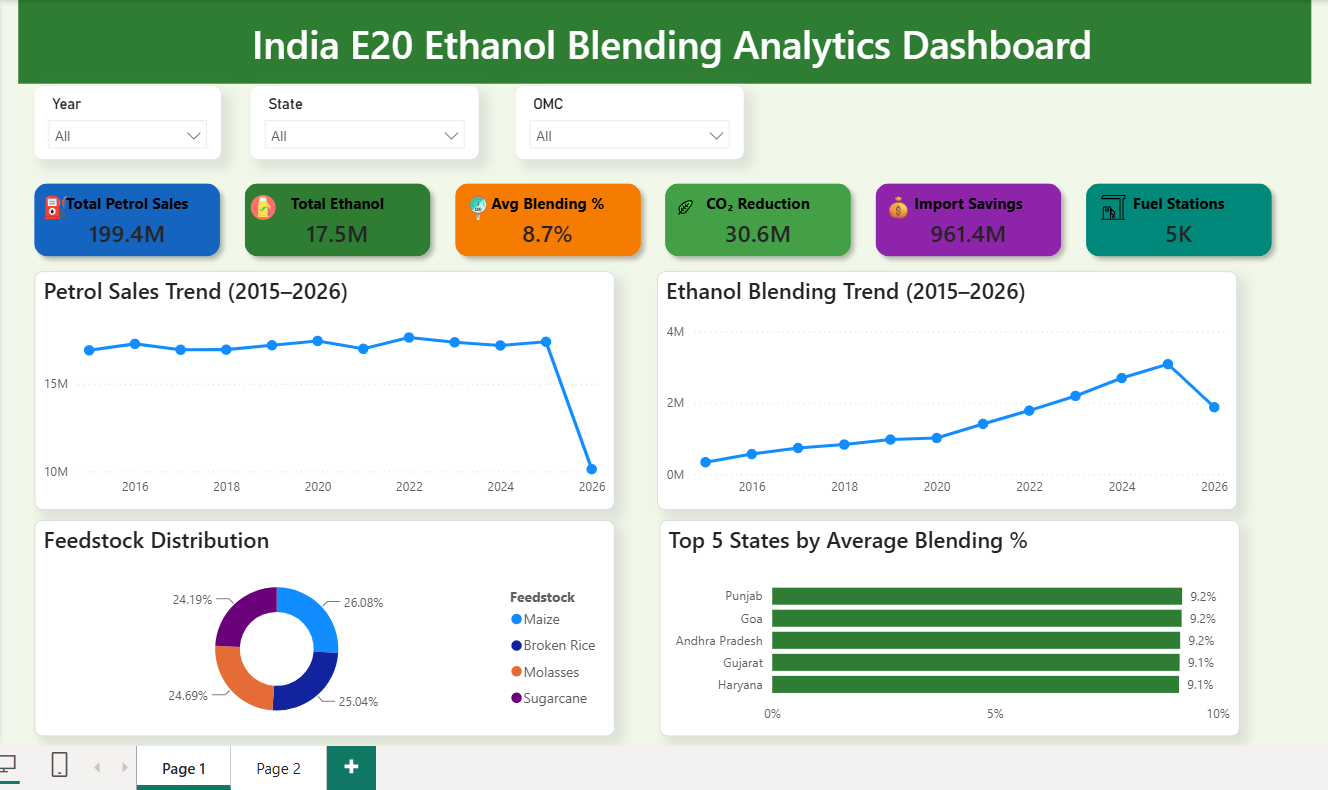

Layout of this report page (visuals, bound fields, positions):
{"tool":"powerbi","page":{"name":"Page 1","canvas":[1280,720],"ordinal":0},"visuals":[{"type":"textbox","box":[15.3,0,1248,80.7],"z":0},{"type":"cardVisual","fields":{"Data":["E20_Synthetic_Dashboard_Dataset_2015_2026.Total Petrol Sales","E20_Synthetic_Dashboard_Dataset_2015_2026.Total Ethanol","E20_Synthetic_Dashboard_Dataset_2015_2026.Avg Blending %","E20_Synthetic_Dashboard_Dataset_2015_2026.CO₂ Reduction","E20_Synthetic_Dashboard_Dataset_2015_2026.Import Savings","E20_Synthetic_Dashboard_Dataset_2015_2026.Fuel Stations"]},"box":[7.3,152.9,1247.3,118.6],"z":1000},{"type":"image","box":[853.5,188.3,24,24],"z":2000},{"type":"image","box":[40.4,188.3,24,24],"z":3000},{"type":"image","box":[239.7,188.3,24,24],"z":4000},{"type":"image","box":[447.6,188.3,24,24],"z":5000},{"type":"image","box":[648.1,188.3,24,24],"z":6000},{"type":"image","box":[1060.2,188.3,24,24],"z":7000},{"type":"slicer","fields":{"Values":["Calendar.Year"]},"box":[31.4,82.9,180,70],"z":8000},{"type":"slicer","fields":{"Values":["E20_Synthetic_Dashboard_Dataset_2015_2026.State_UT"]},"box":[240,82.9,220,70],"z":9000},{"type":"slicer","fields":{"Values":["E20_Synthetic_Dashboard_Dataset_2015_2026.OMC"]},"box":[495.7,82.9,220,70],"z":10000},{"type":"lineChart","title":"Petrol Sales Trend (2015–2026)","fields":{"Category":["Calendar.Year"],"Y":["E20_Synthetic_Dashboard_Dataset_2015_2026.Total Petrol Sales"]},"box":[31.3,261.2,560,230],"z":11000},{"type":"lineChart","title":"Ethanol Blending Trend (2015–2026)","fields":{"Category":["Calendar.Year"],"Y":["E20_Synthetic_Dashboard_Dataset_2015_2026.Total Ethanol"]},"box":[632.7,261.2,560,230],"z":12000},{"type":"donutChart","title":"Feedstock Distribution","fields":{"Category":["E20_Synthetic_Dashboard_Dataset_2015_2026.Feedstock"],"Y":["E20_Synthetic_Dashboard_Dataset_2015_2026.Total Ethanol"]},"box":[31.3,502,560,209],"z":13000},{"type":"clusteredBarChart","title":"Top 5 States by Average Blending %","fields":{"Category":["E20_Synthetic_Dashboard_Dataset_2015_2026.State_UT"],"Y":["E20_Synthetic_Dashboard_Dataset_2015_2026.Avg Blending %"]},"box":[634.3,501.5,560,209],"z":14000}]}

Visuals, with their boxes on the page's 1280x720 design canvas (x1, y1, x2, y2). These are canvas units, not pixel positions in the 1328x790 screenshot, which may show the page scaled, cropped or inside an application window:
textbox: 15 0 1263 81
cardVisual - E20_Synthetic_Dashboard_Dataset_2015_2026.Total Petrol Sales x E20_Synthetic_Dashboard_Dataset_2015_2026.Total Ethanol: 7 153 1255 272
image: 854 188 878 212
image: 40 188 64 212
image: 240 188 264 212
image: 448 188 472 212
image: 648 188 672 212
image: 1060 188 1084 212
slicer - Calendar.Year: 31 83 211 153
slicer - E20_Synthetic_Dashboard_Dataset_2015_2026.State_UT: 240 83 460 153
slicer - E20_Synthetic_Dashboard_Dataset_2015_2026.OMC: 496 83 716 153
"Petrol Sales Trend (2015–2026)" lineChart: 31 261 591 491
"Ethanol Blending Trend (2015–2026)" lineChart: 633 261 1193 491
"Feedstock Distribution" donutChart: 31 502 591 711
"Top 5 States by Average Blending %" clusteredBarChart: 634 502 1194 710
